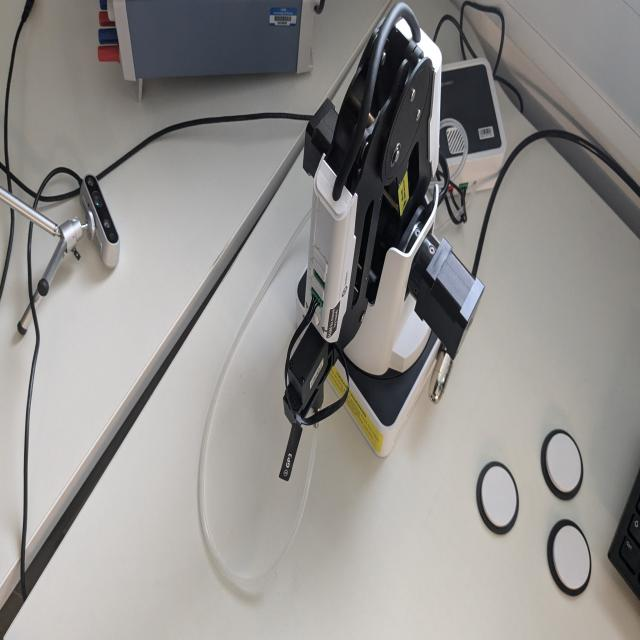Robot-end-effector-HF8z: (280, 317, 333, 432)
